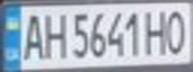1: (121, 7, 145, 56)
4: (106, 7, 127, 57)
5: (66, 8, 90, 60)
6: (87, 8, 109, 59)
A: (18, 9, 48, 61)
H: (39, 9, 69, 60), (142, 6, 172, 56)
O: (163, 6, 190, 55)
